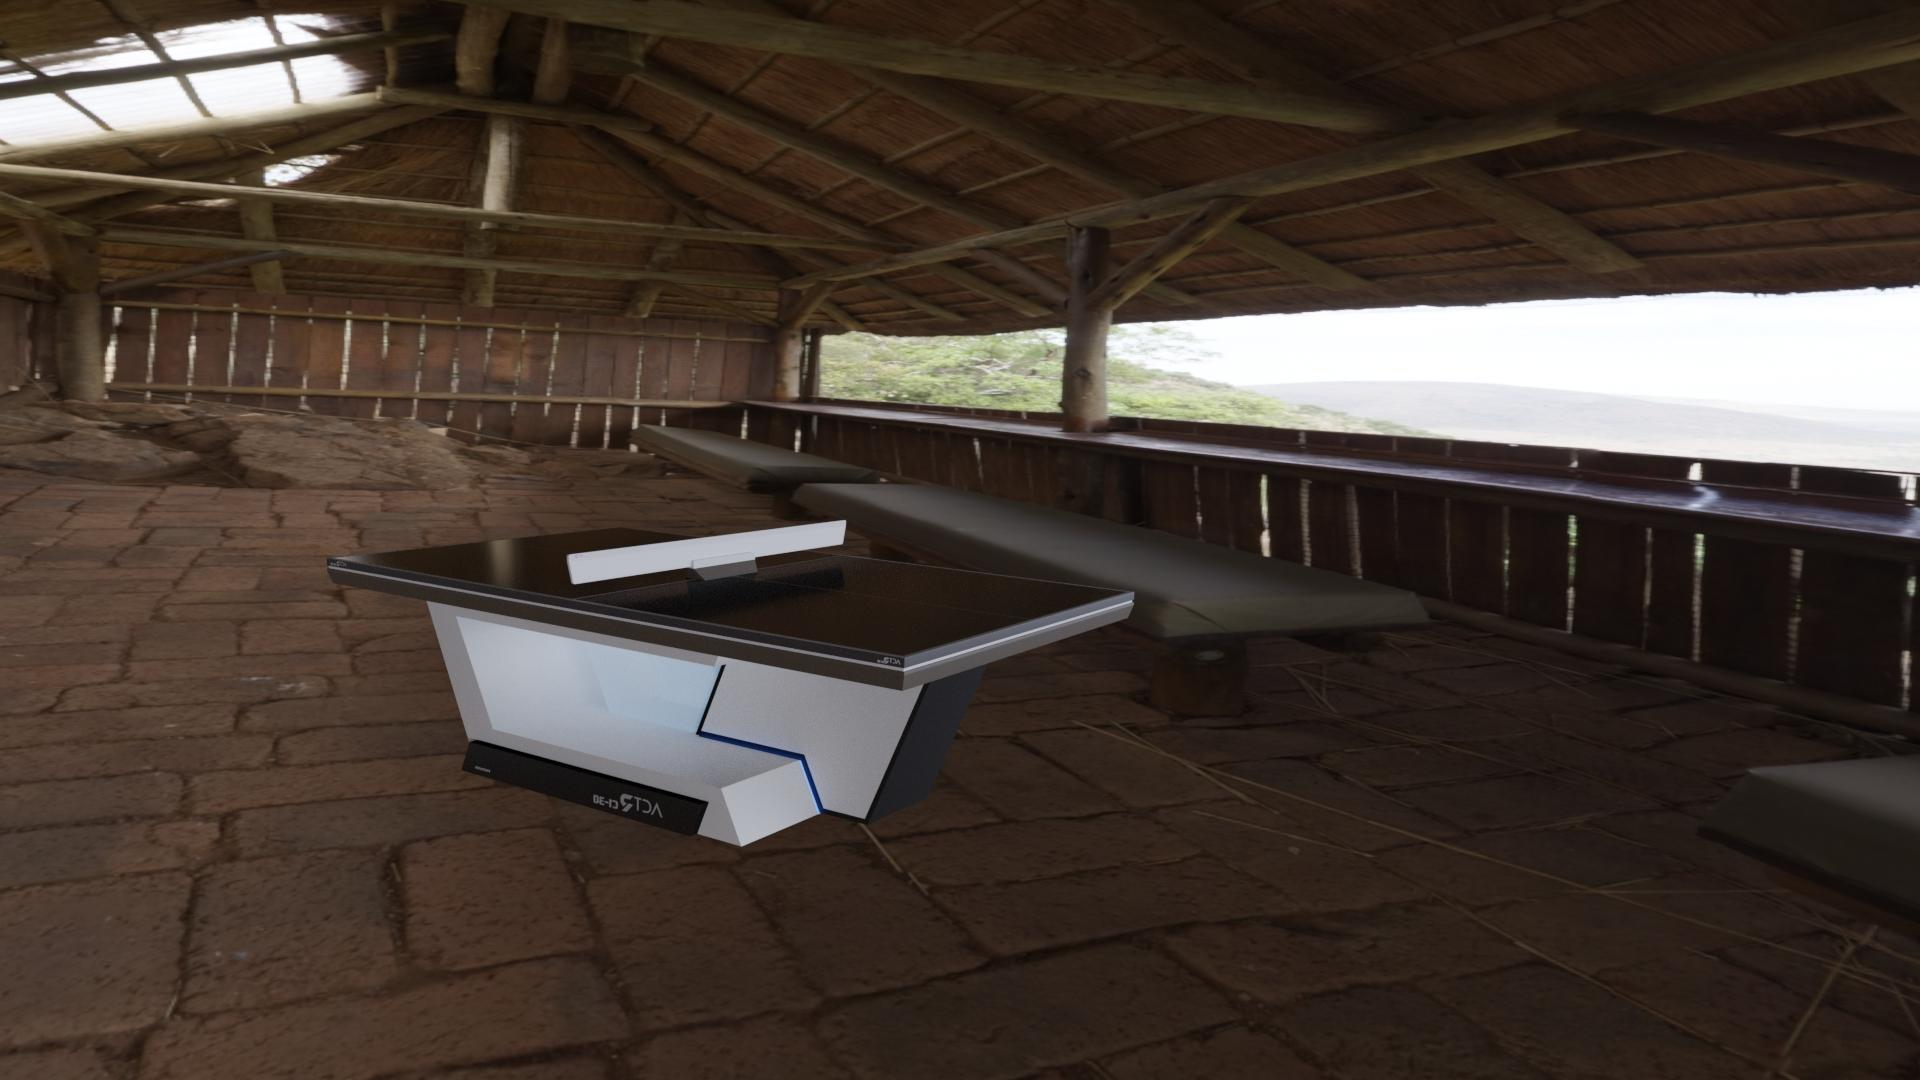table: (334, 527, 1127, 655)
